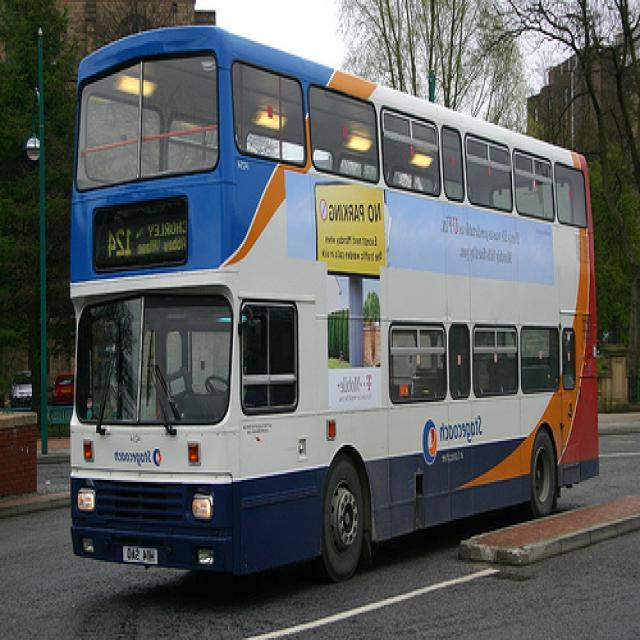Double decker: (69, 21, 607, 572)
